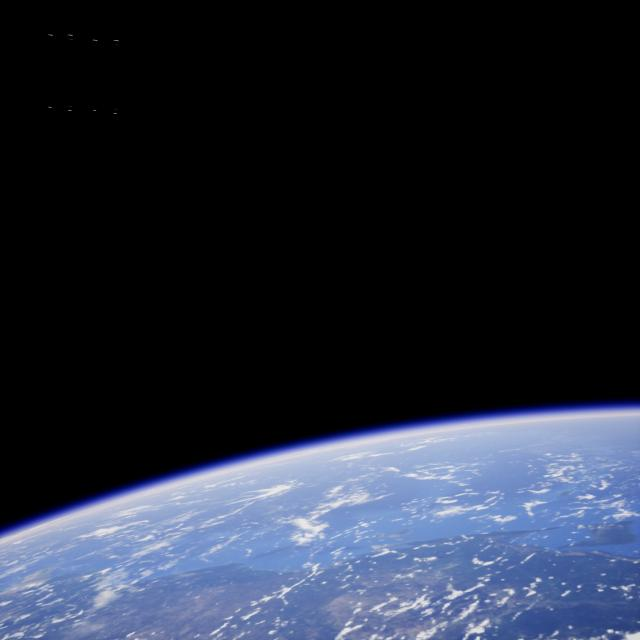satellite: (30, 22, 131, 126)
